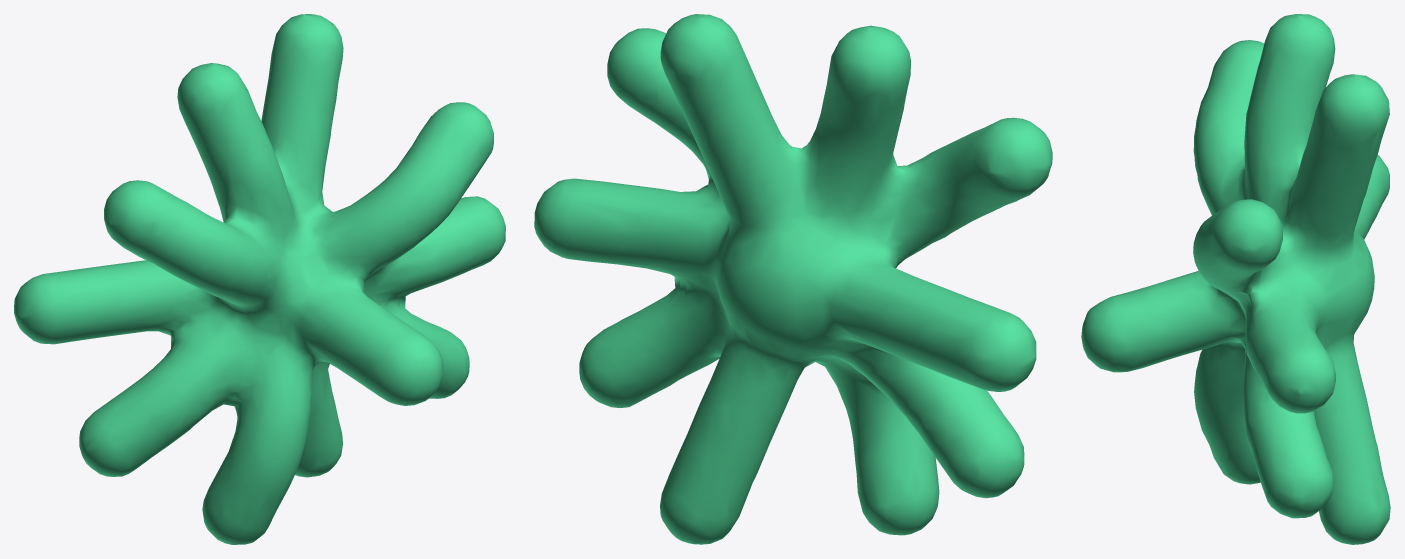
Rendered from mint-starburst.glb.
3 views of the same model, side by side, from view 1: azimuth 30°, elevation 25°; view 2: azimuth 150°, elevation 25°; view 3: azimuth 270°, elevation 25° (orthographic). The views are drawn at different scales.
Visible parts, largest first — view 1: mint-starburst; view 2: mint-starburst; view 3: mint-starburst.
Part boxes in pixels (<box>): mint-starburst: <box>14,14,505,544</box>; mint-starburst: <box>534,14,1052,544</box>; mint-starburst: <box>1081,14,1390,544</box>.
Bounding box in the file's own units: 2 × 1.92 × 1.15.
